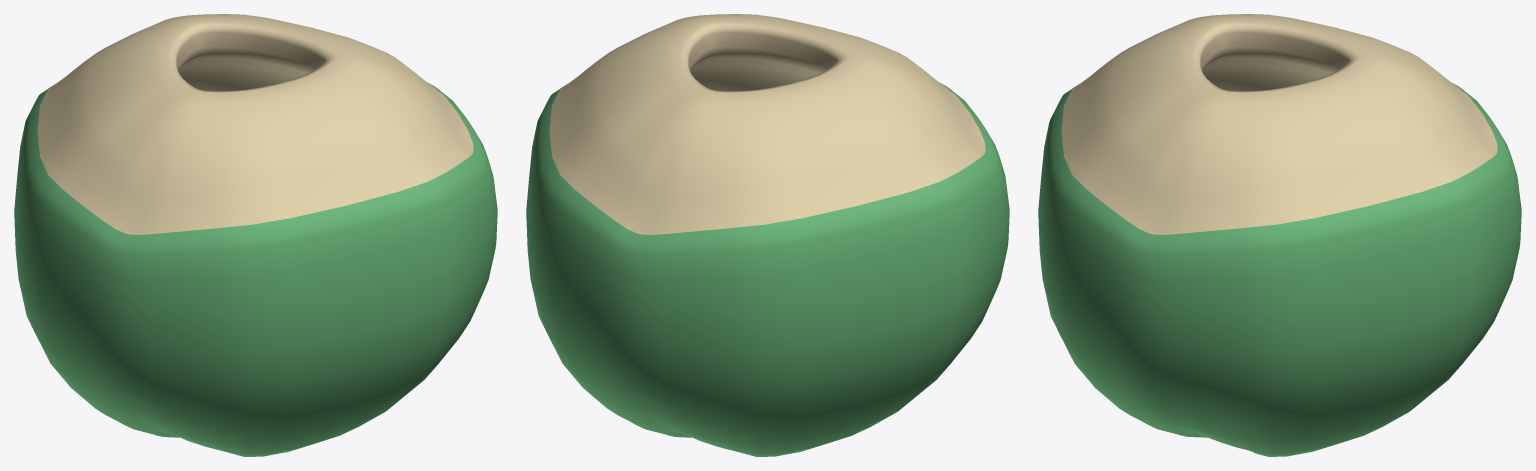
File: Coconut_04.dae
3 views of the same model, side by side, from view 1: azimuth 30°, elevation 25°; view 2: azimuth 150°, elevation 25°; view 3: azimuth 270°, elevation 25° (orthographic).
Parts seen in each view (by area): view 1: Coconut_04_LOD0; view 2: Coconut_04_LOD0; view 3: Coconut_04_LOD0.
Boxes of the visible parts, x1,y1,x2,y2 form: Coconut_04_LOD0: (14,14,497,456); Coconut_04_LOD0: (526,14,1009,456); Coconut_04_LOD0: (1038,14,1521,456).
Size of what is drawn, in the model's own units: 4.8 by 4.72 by 3.98.
